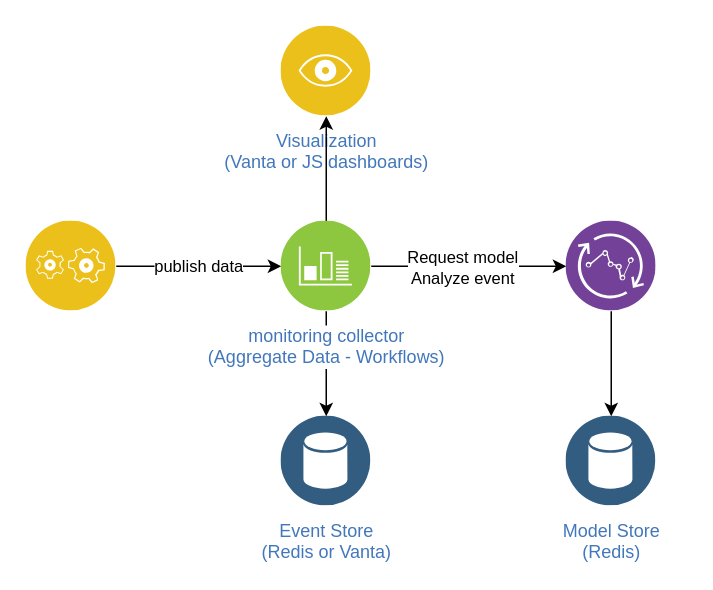
Some shapes in this 713 by 590 pixel diagram are drawn without their labels. The centre of each missing label's shape, as x and y in pixels:
"Application" belongs at point 71,265.
"Python Anomaly Detection" belongs at point 611,265.
